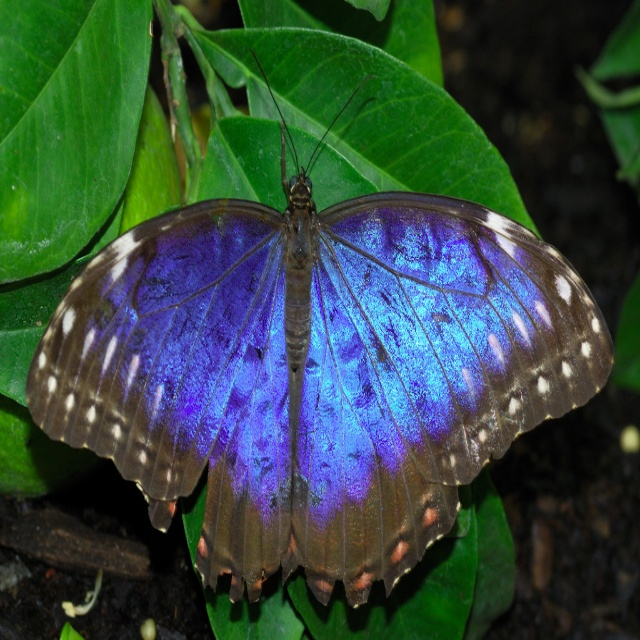Butterfly: (37, 62, 626, 597)
